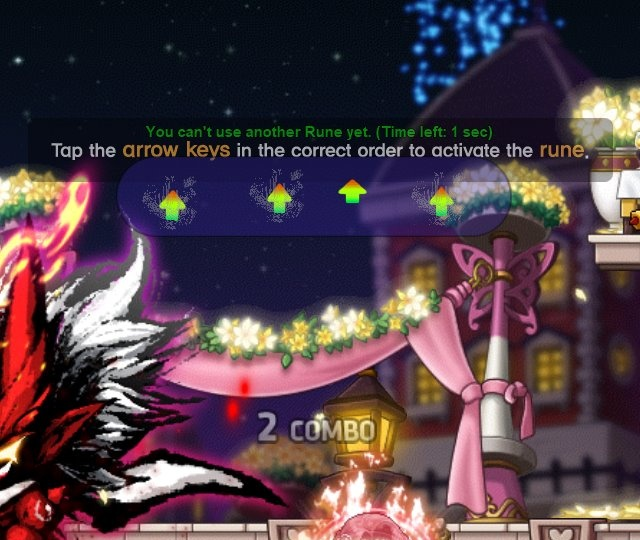rune_box: (113, 151, 530, 248)
